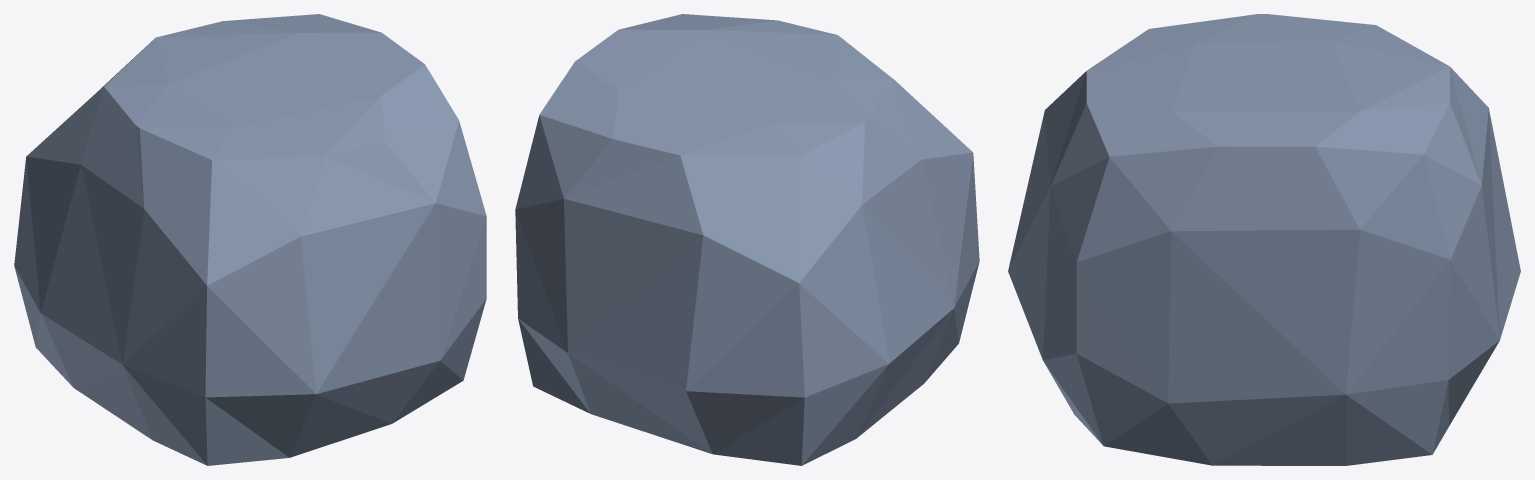
File: Plainstone 3.fbx
The picture shows the model from 3 angles, left to right: view 1: azimuth 30°, elevation 25°; view 2: azimuth 150°, elevation 25°; view 3: azimuth 270°, elevation 25°; orthographic projection. The views are drawn at different scales.
Parts seen in each view (by area): view 1: Plainstone Size 3; view 2: Plainstone Size 3; view 3: Plainstone Size 3.
Part boxes in pixels (x1=…): Plainstone Size 3: x1=14, y1=14, x2=486, y2=465; Plainstone Size 3: x1=515, y1=14, x2=979, y2=465; Plainstone Size 3: x1=1008, y1=14, x2=1520, y2=465.
Bounding box in the file's own units: 356 × 299 × 404.
